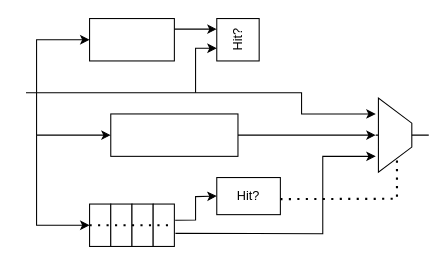
This 447x265 diagram has some shape labels left out. Each missing label, with the centre of its shape:
Dades: [174,134]
Tags: [131,39]
